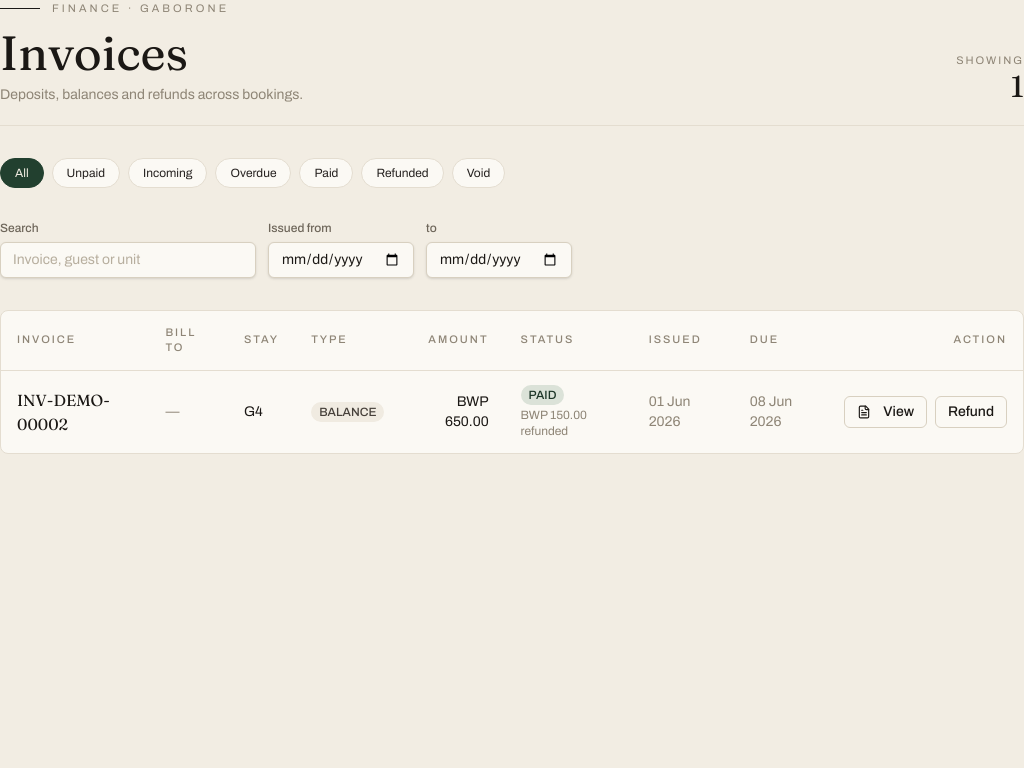
InvoicesPage — refund dialog › refuses thousands separators
Click the button "Refund" at (971, 412), box top-left (935, 396), bottom-right (1007, 428)
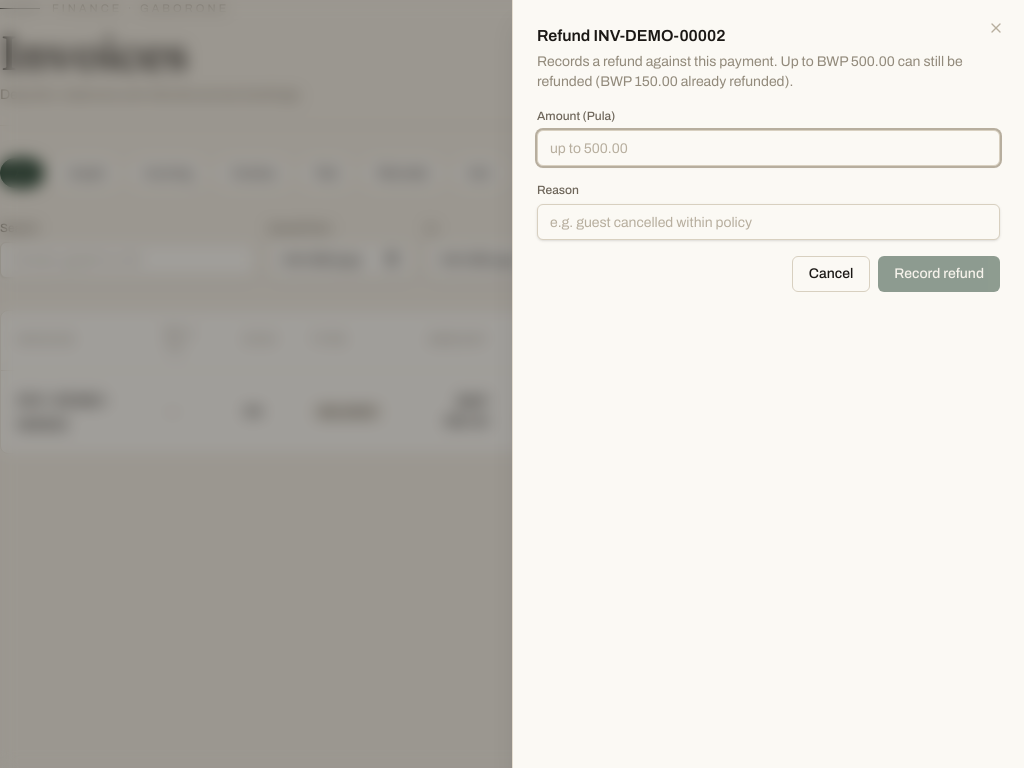
Type "x" into the field labelled "Reason" at (768, 222), box top-left (537, 204), bottom-right (1000, 240)
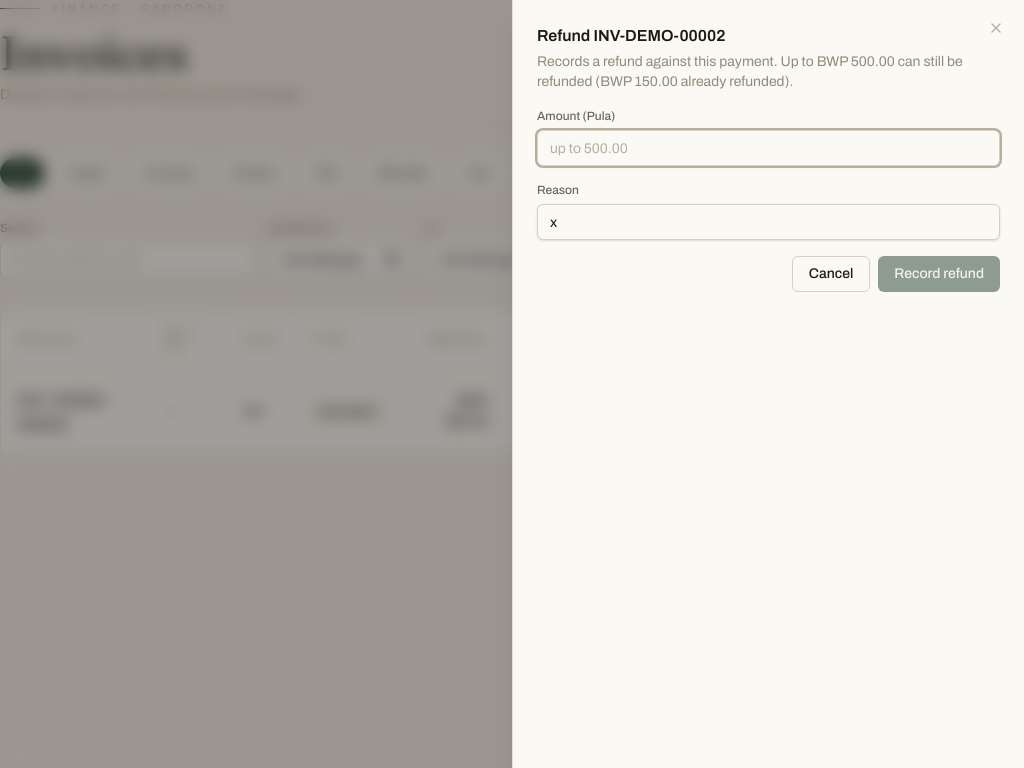
Type "1,250" into the field labelled "Amount (Pula)" at (768, 148), box top-left (537, 130), bottom-right (1000, 166)
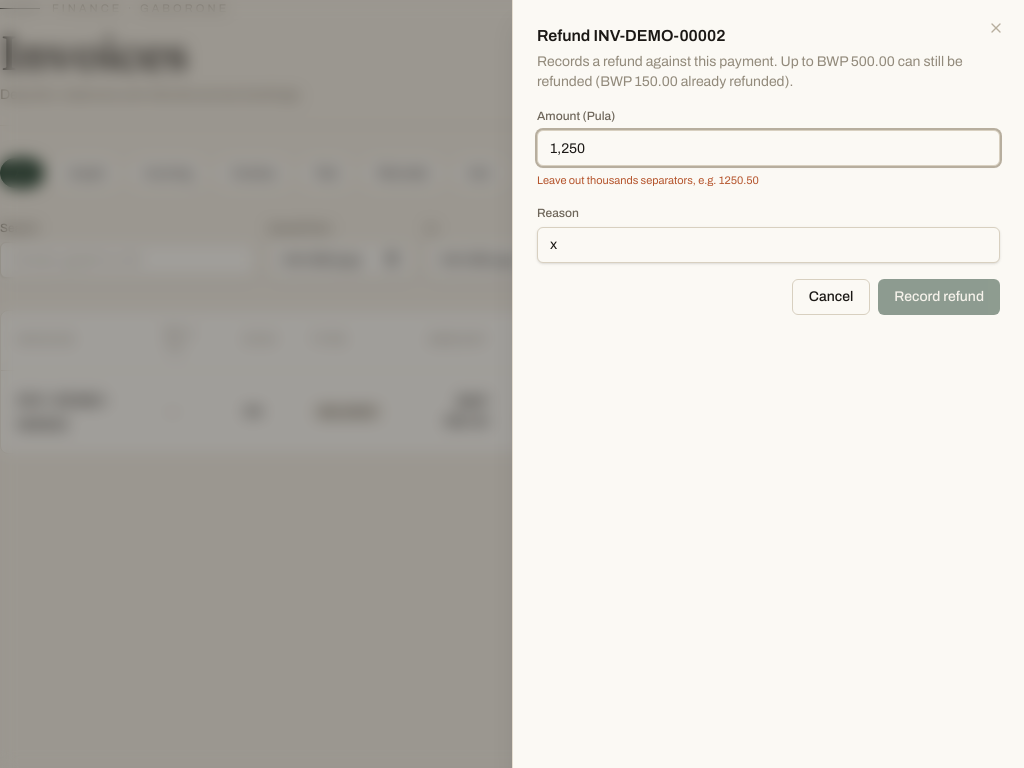
Now the button "Record refund" is disabled, box top-left (878, 278), bottom-right (1000, 314)
Now the text "Leave out thousands separators, e.g. 1250.50" is shown, box top-left (537, 174), bottom-right (759, 186)
